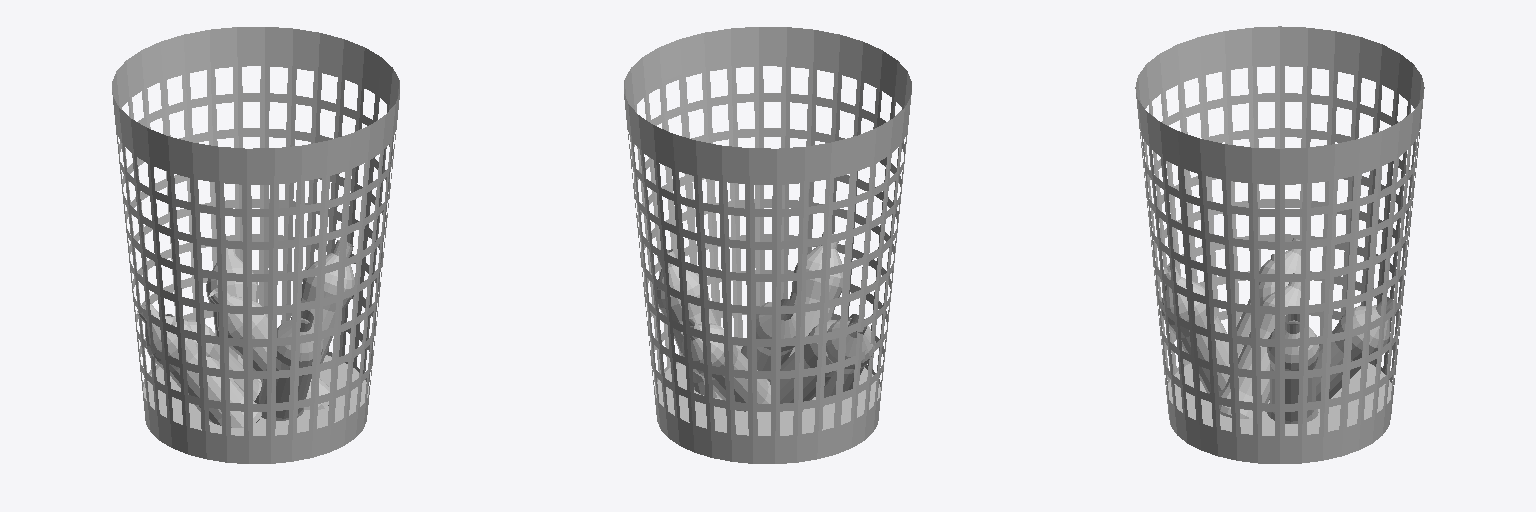
The model's file is DustbinWithCan_000039.obj.
3 views of the same model, side by side, from view 1: azimuth 30°, elevation 25°; view 2: azimuth 150°, elevation 25°; view 3: azimuth 270°, elevation 25° (orthographic).
Visible parts, largest first — view 1: Cylinder, Plane.005, Plane.001, Plane.004, Plane.003, Plane.002, Plane.006; view 2: Cylinder, Plane.002, Plane.003, Plane.001, Plane.005, Plane.006, Plane.004; view 3: Cylinder, Plane.001, Plane.004, Plane.003, Plane.002, Plane.005.
Part boxes in pixels (x1,y1,x2,y2): Cylinder: (112,27,399,463); Plane.005: (137,303,261,427); Plane.001: (254,310,322,420); Plane.004: (209,287,329,409); Plane.003: (291,240,354,363); Plane.002: (206,248,260,381); Plane.006: (165,314,261,400); Cylinder: (624,27,911,463); Plane.002: (681,319,770,411); Plane.003: (657,249,719,397); Plane.001: (789,234,842,356); Plane.005: (815,316,875,397); Plane.006: (767,314,858,403); Plane.004: (741,299,795,370); Cylinder: (1135,26,1424,463); Plane.001: (1161,266,1238,394); Plane.004: (1219,273,1300,418); Plane.003: (1267,314,1319,423); Plane.002: (1316,297,1397,400); Plane.005: (1236,238,1301,355).
Bounding box in the file's own units: 2.6 × 3.34 × 2.6.